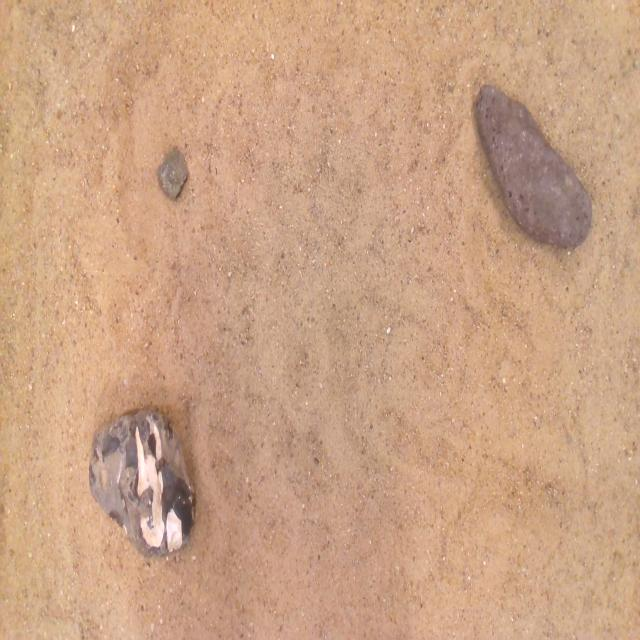rock: (476, 85, 592, 247), (89, 409, 195, 555), (157, 148, 188, 199)
